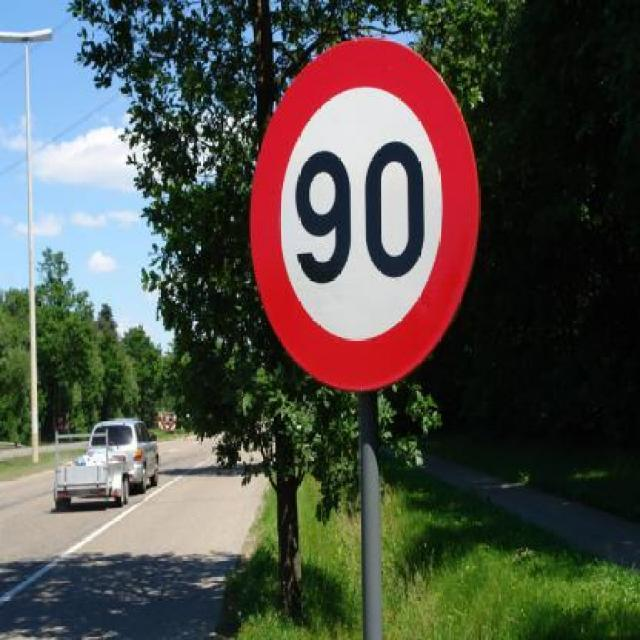Ograniczenie predkosci do 90: (248, 42, 473, 384)
